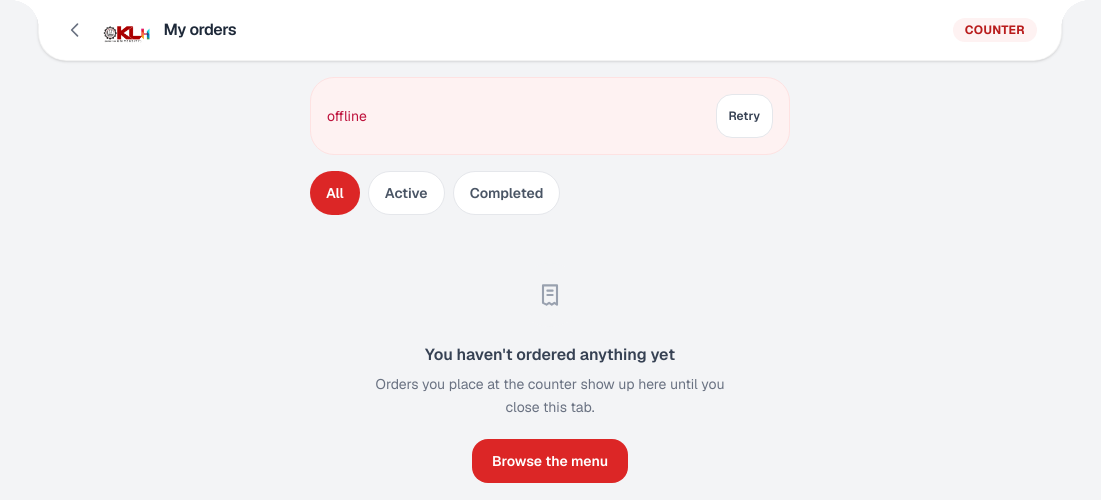
Test: recovers from a failed load instead of stranding the page on its skeleton
Check: the message shows "offline", box left=327, top=107, right=367, bottom=125
Click the button "Retry" at [744, 116], box left=716, top=94, right=773, bottom=138
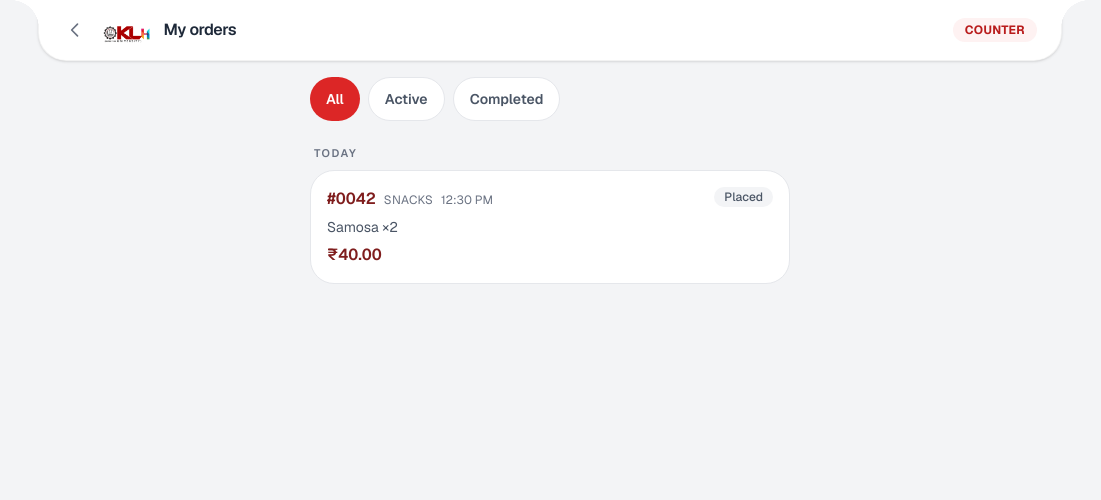
Check: the text "Placed" is shown, box left=714, top=186, right=773, bottom=206
Check: the message "offline Retry" is gone
